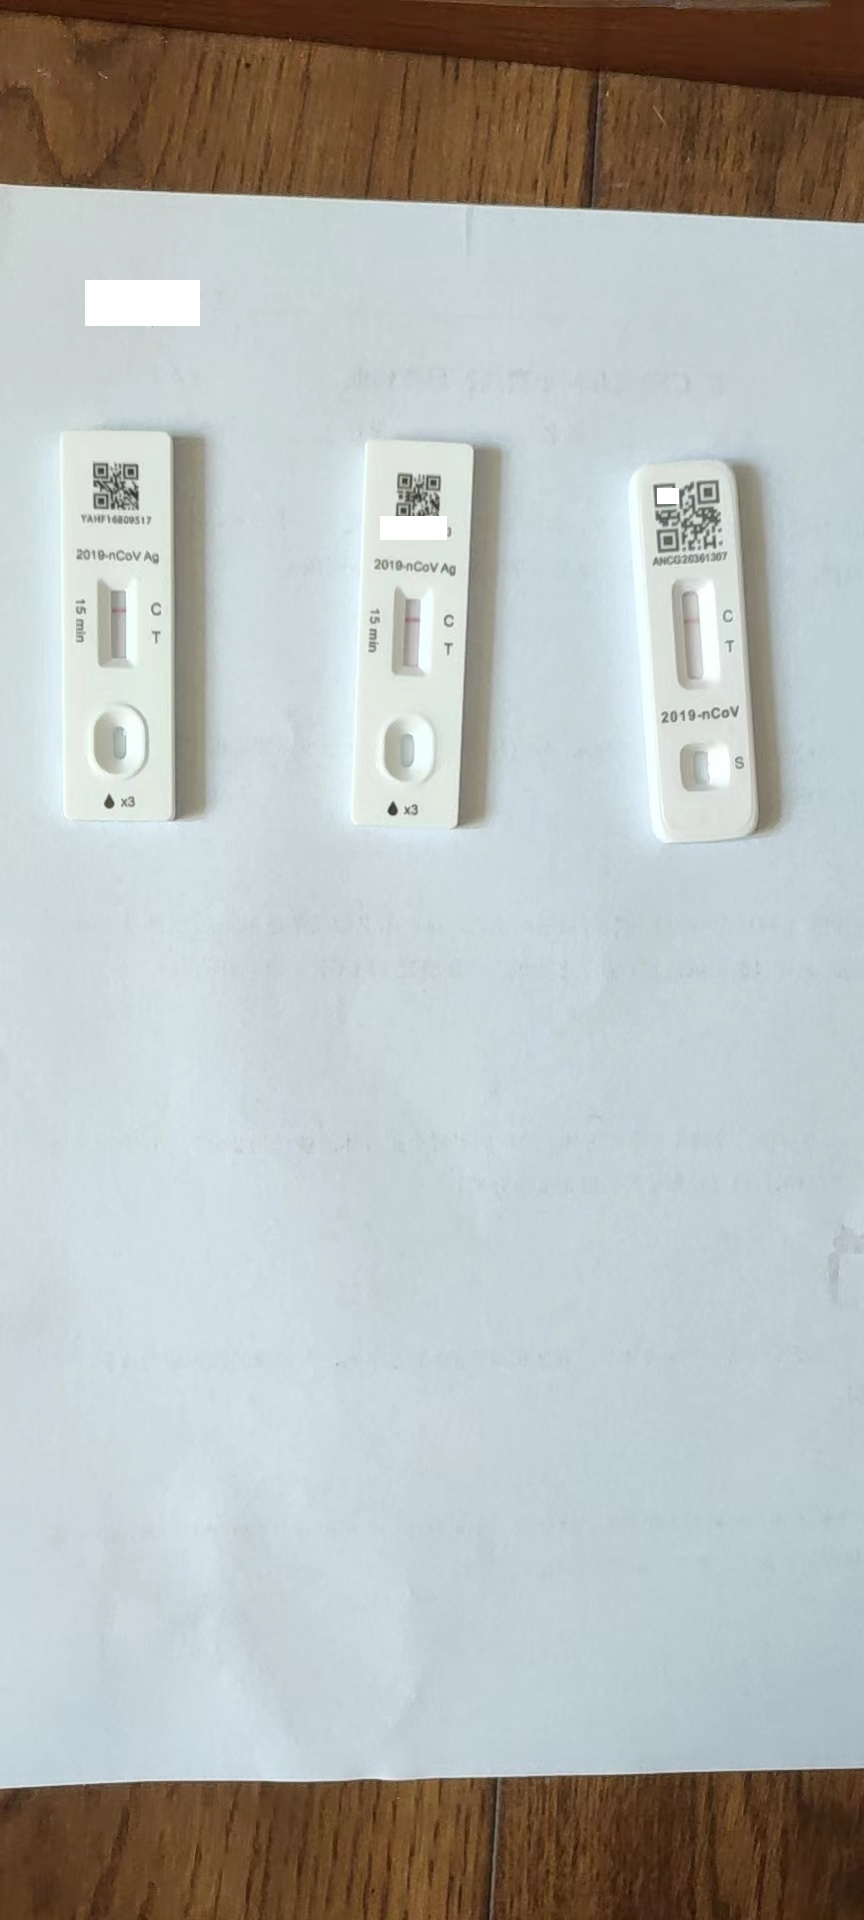negative: (669, 578, 716, 692), (94, 578, 133, 673), (393, 582, 430, 677)
